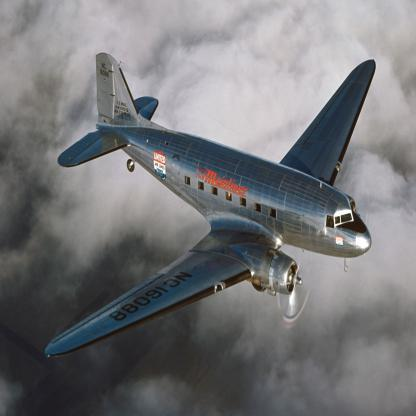CIV_Plane: (42, 46, 383, 369)
